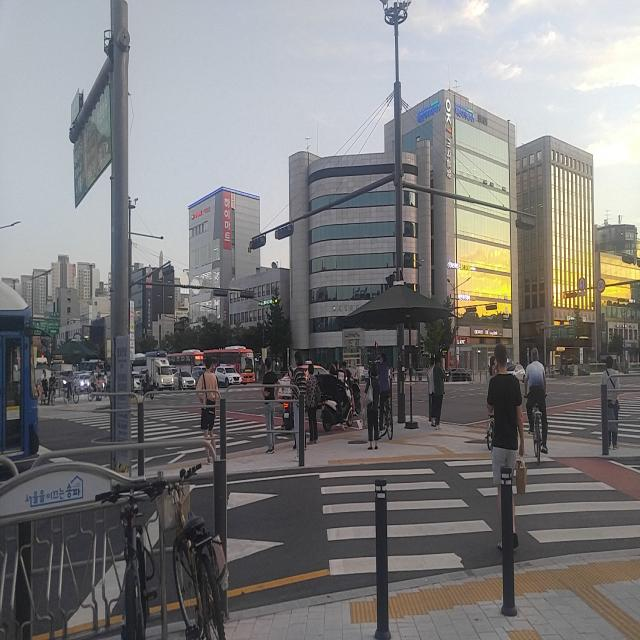횡단보도: (317, 454, 640, 581), (35, 406, 288, 450)
